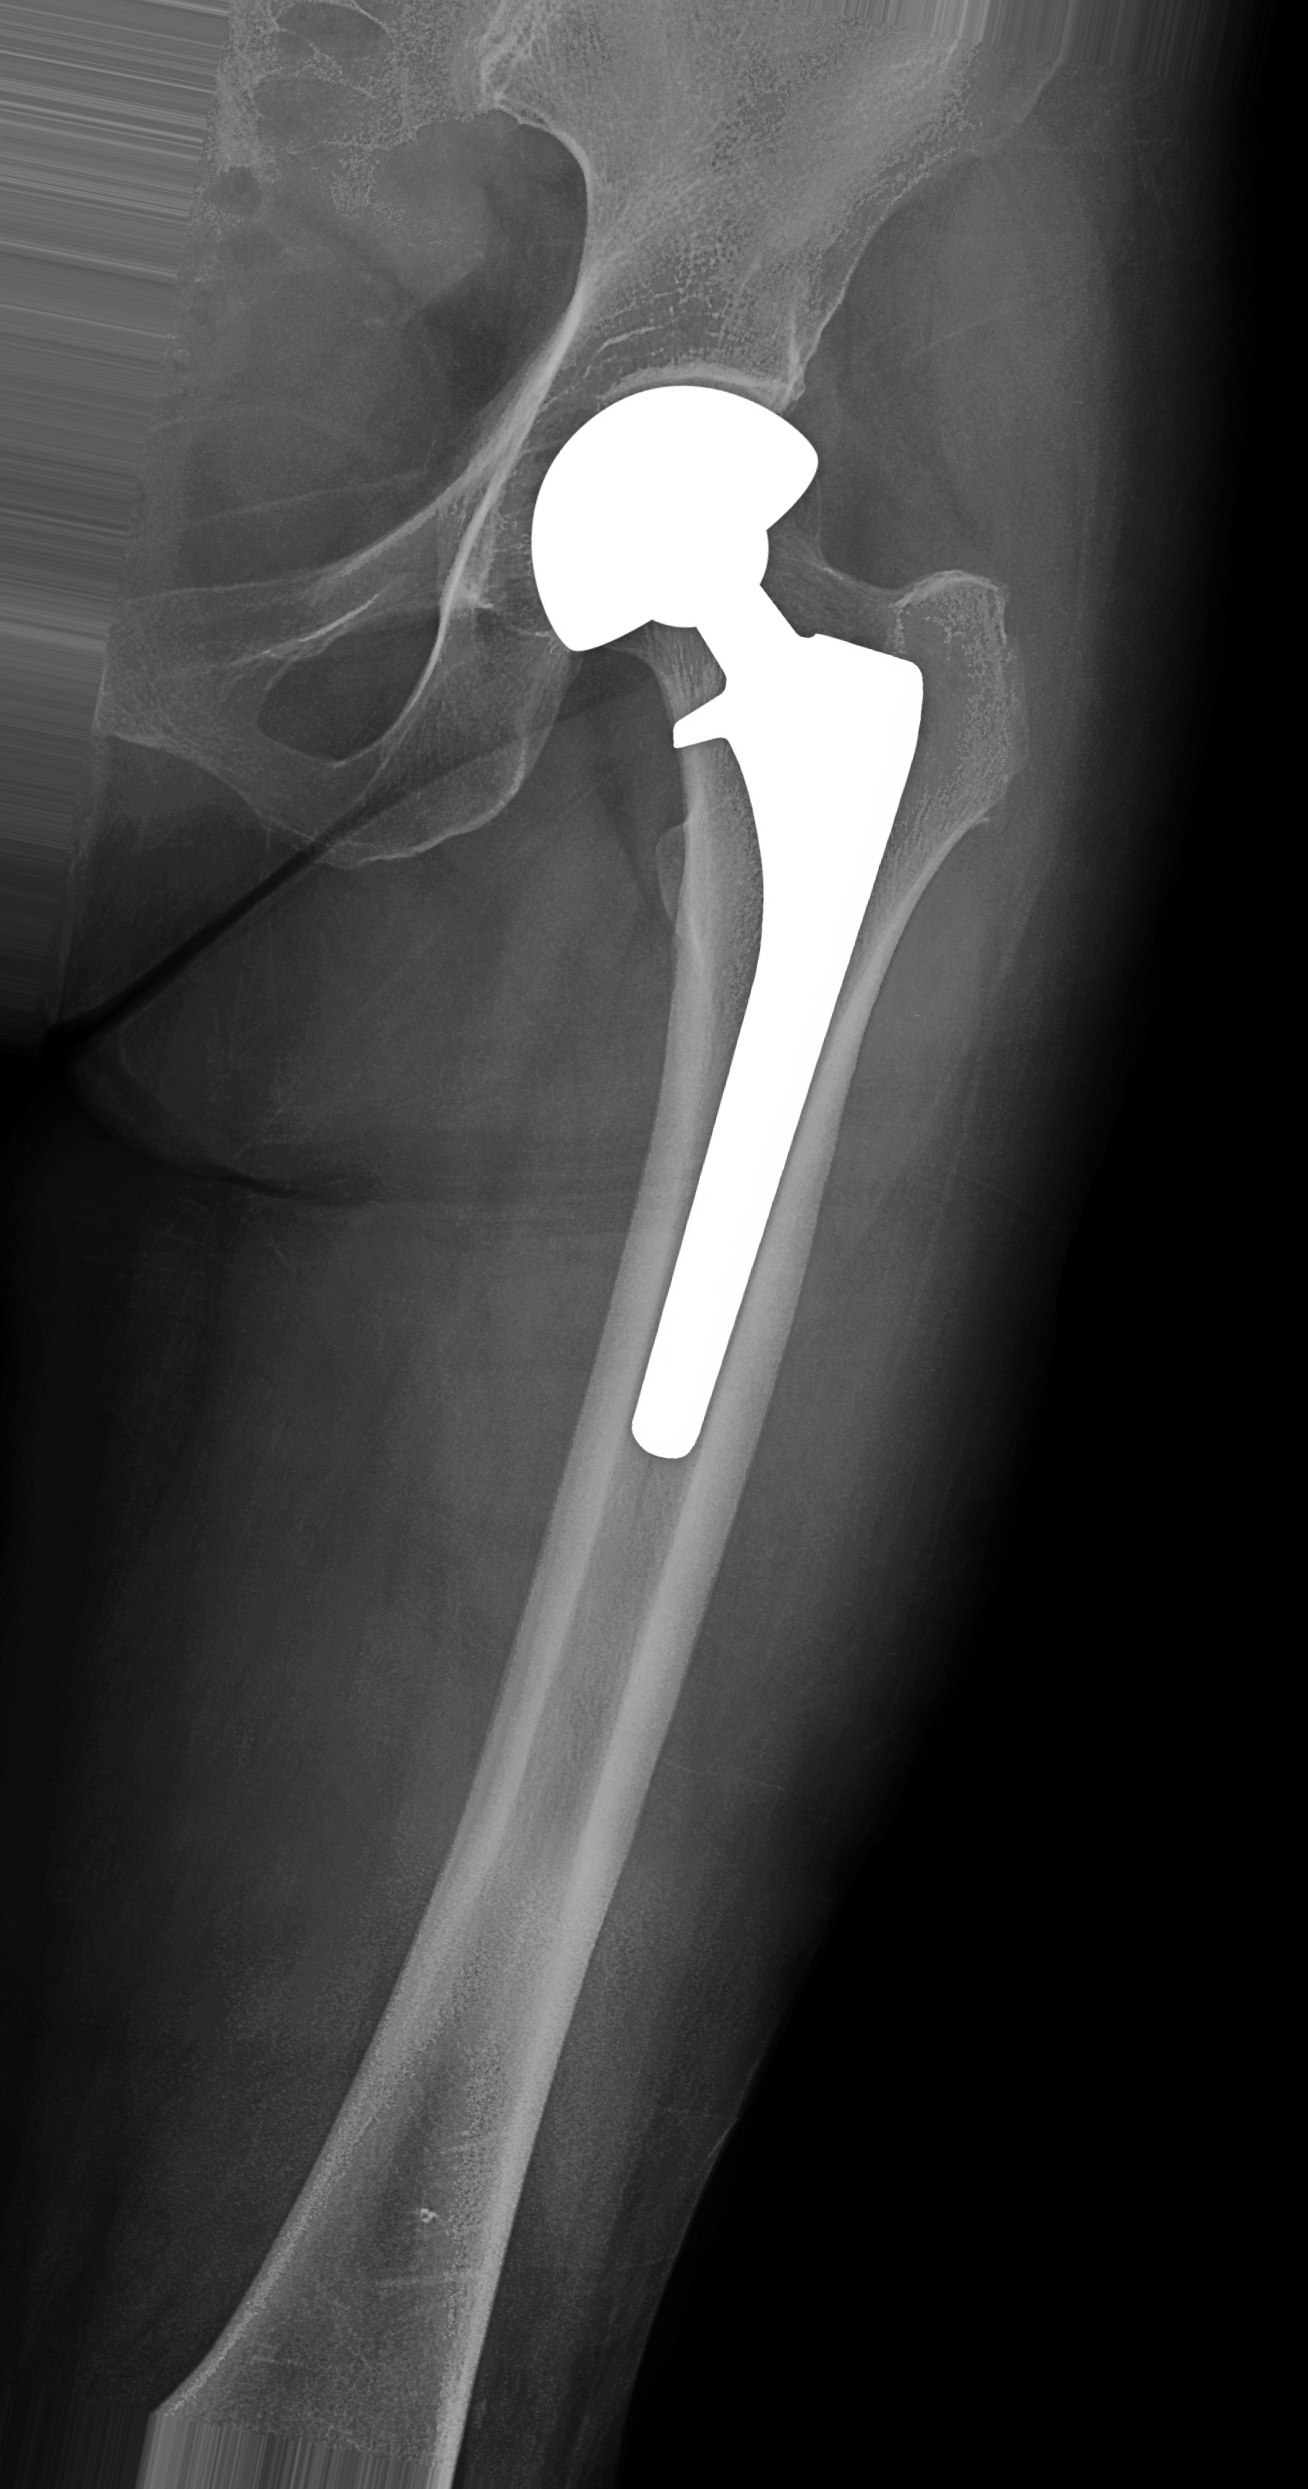Hip - APR - Zimmer: (410, 357, 954, 1491)
